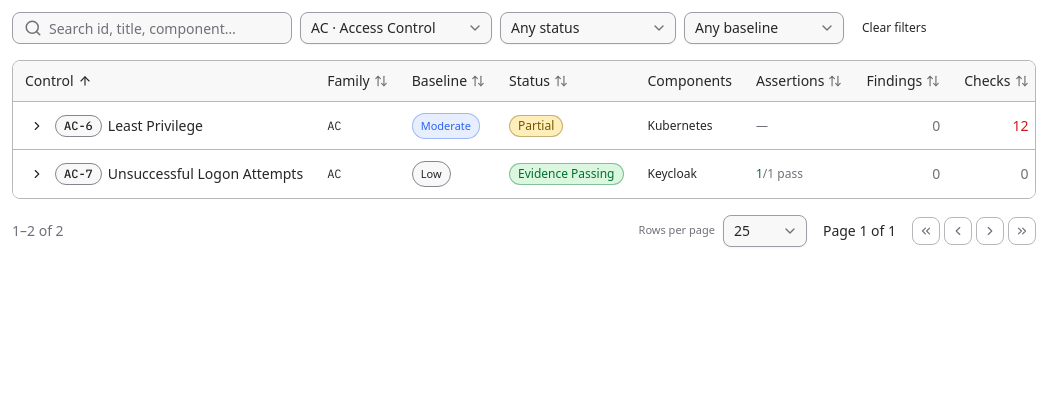
Scenario: ControlsTable › applies the initial family filter and the text search
Click the button "Clear filters" at (894, 28), box [852,14,936,42]
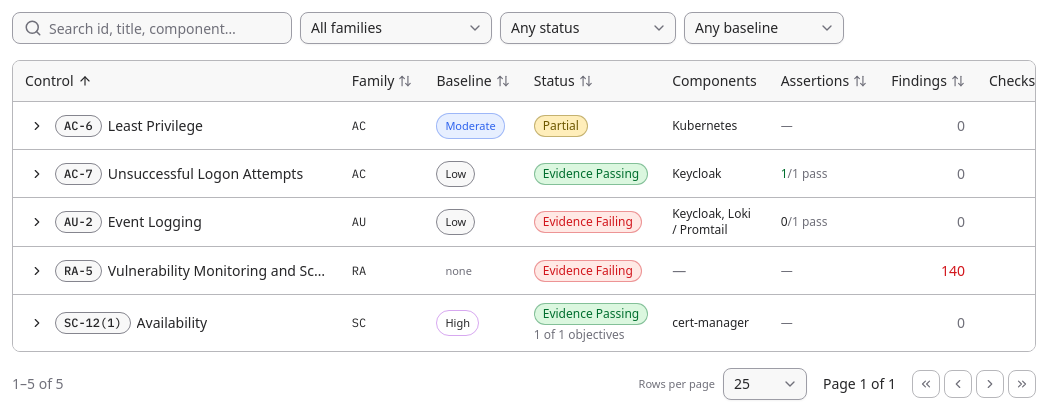
Type "cert-manager" into the search field named "Search controls" at (152, 28), box [12,12,292,44]
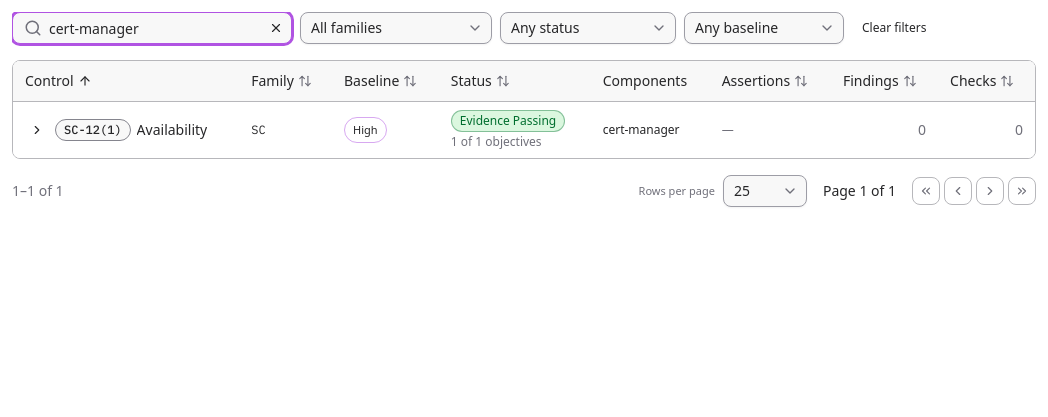
Replace the text in the search field named "Search controls" with "zzz" at (152, 28), box [12,12,292,44]
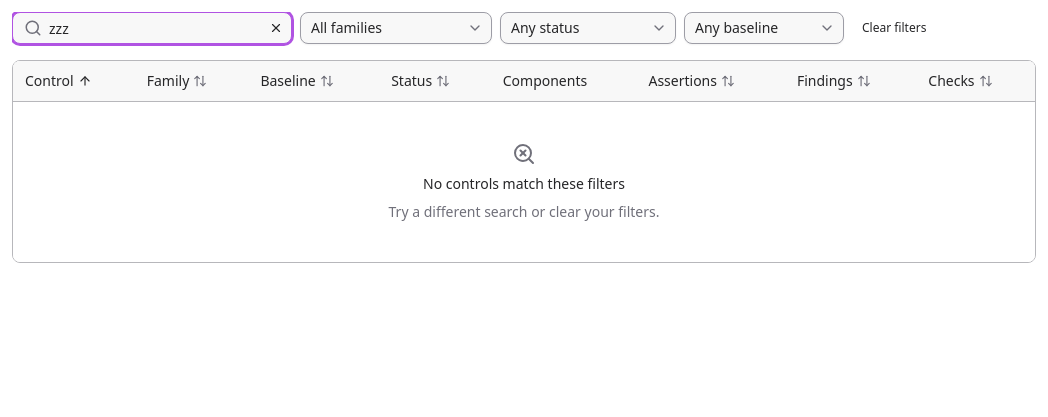
Expected: the text "No controls match these filters" is shown, [423,174,625,194]
